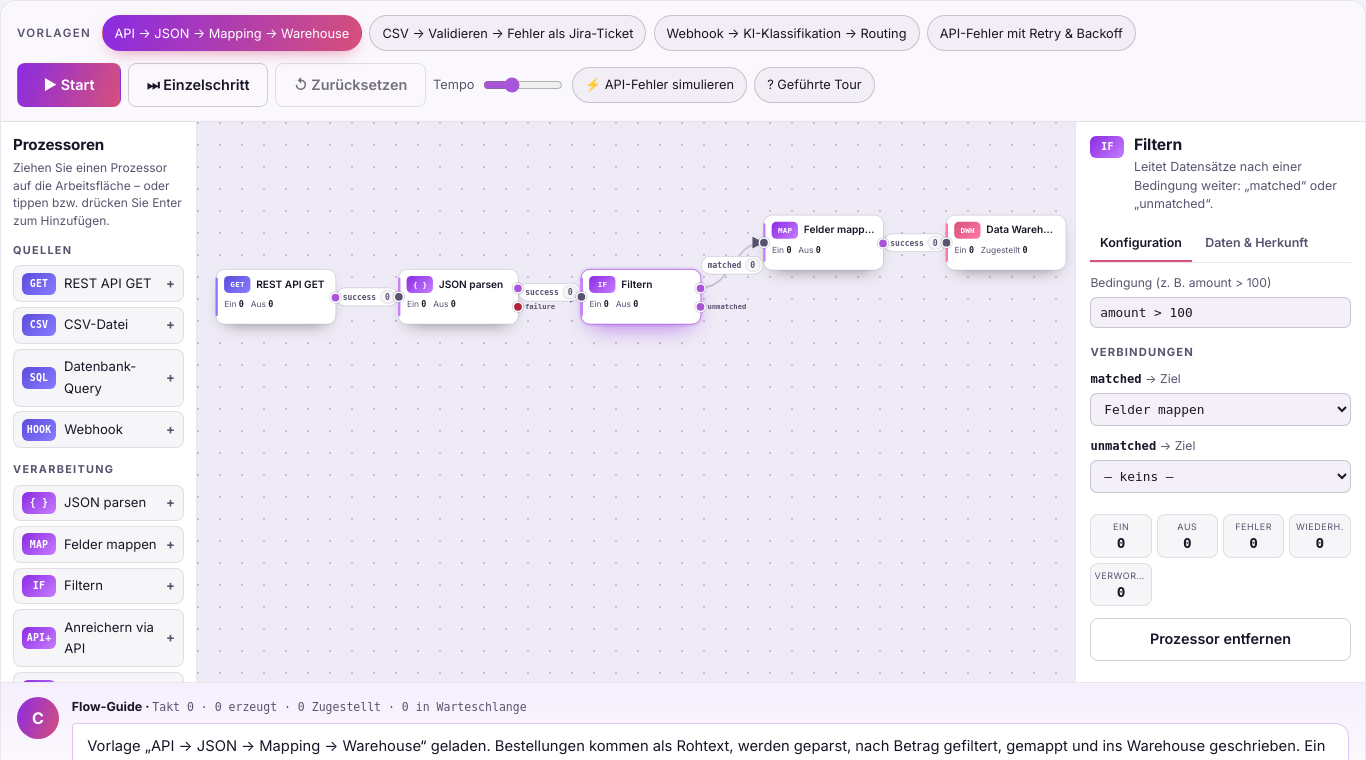
Test: FlowStudioComponent › configures a processor; the change is explained and used by the next run
The image size is (1366, 760).
Step 1. Replace the text in the field labelled "Bedingung (z. B. amount > 100)" with "amount > 1000" → (1220, 313), box [1090, 297, 1351, 328]
Wait 600 ms
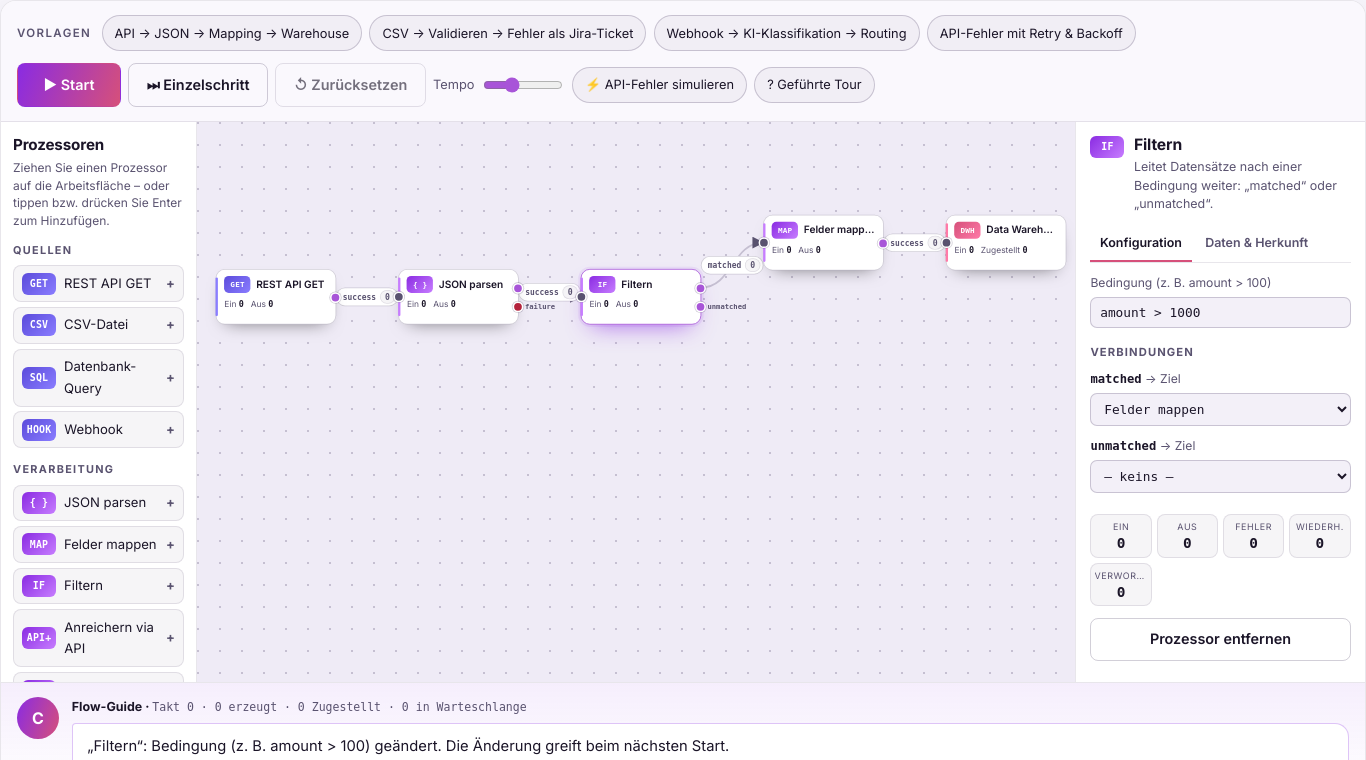
Result: the text with test id "narration" shows "Bedingung (z. B. amount > 100) geändert" at [87, 737, 729, 755]
